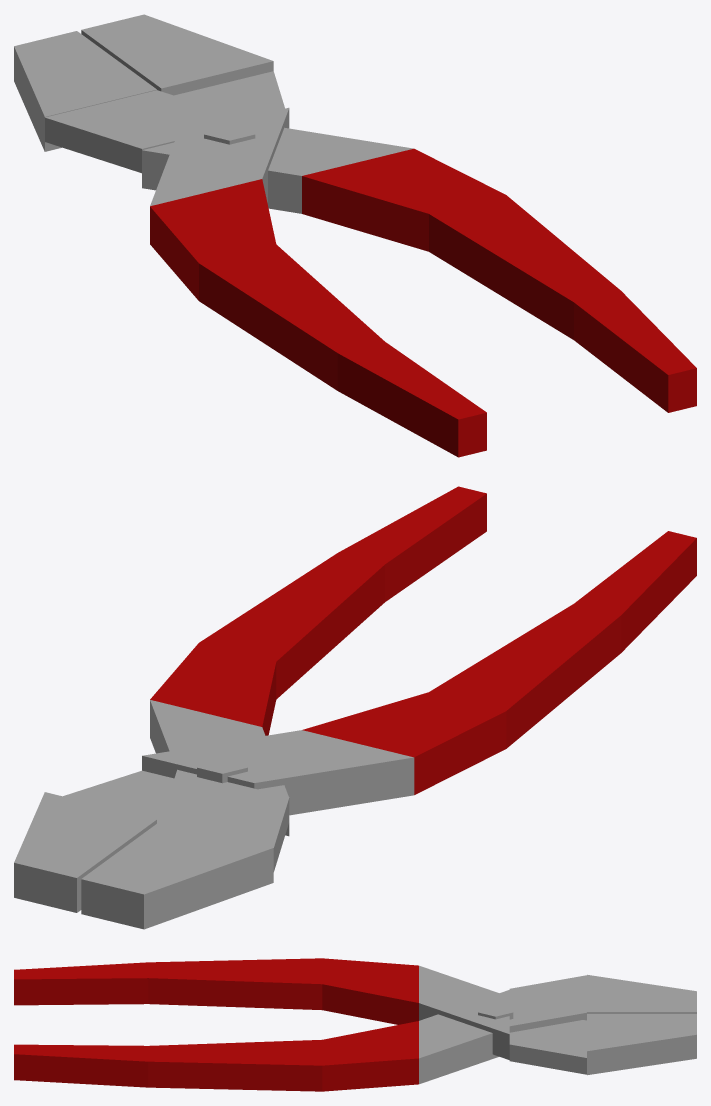
The model's file is Clamp.fbx.
The picture shows the model from 3 angles, top to bottom: view 1: azimuth 30°, elevation 25°; view 2: azimuth 150°, elevation 25°; view 3: azimuth 270°, elevation 25°; orthographic projection. The views are drawn at different scales.
Parts seen in each view (by area): view 1: pCube2, pCube1, pCylinder1; view 2: pCube1, pCube2, pCylinder1; view 3: pCube1, pCube2, pCylinder1.
Boxes of the visible parts, x1,y1,x2,y2 form: pCube2: (14,31,696,412); pCube1: (81,14,486,457); pCylinder1: (204,115,255,144); pCube1: (14,531,696,912); pCube2: (81,486,486,929); pCylinder1: (197,749,247,783); pCube1: (14,958,696,1075); pCube2: (14,974,696,1091); pCylinder1: (478,999,513,1019).
Bounding box in the file's own units: 2.74 × 0.4586 × 7.69.
